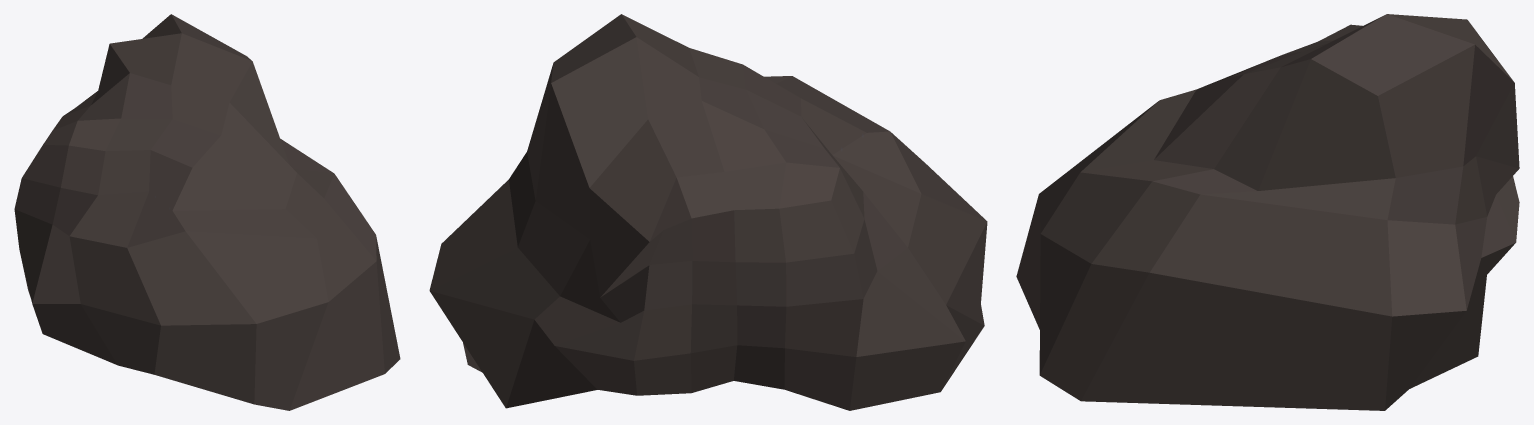
The model's file is fbDebris.fbx.
The picture shows the model from 3 angles, left to right: view 1: azimuth 30°, elevation 25°; view 2: azimuth 150°, elevation 25°; view 3: azimuth 270°, elevation 25°; orthographic projection. The views are drawn at different scales.
Visible parts, largest first — view 1: Cube.016; view 2: Cube.016; view 3: Cube.016.
Boxes of the visible parts, x1=… form: Cube.016: x1=14, y1=14, x2=400, y2=410; Cube.016: x1=429, y1=14, x2=987, y2=410; Cube.016: x1=1016, y1=14, x2=1519, y2=410.
Size of the model in its own units: 326 by 260 by 349.
